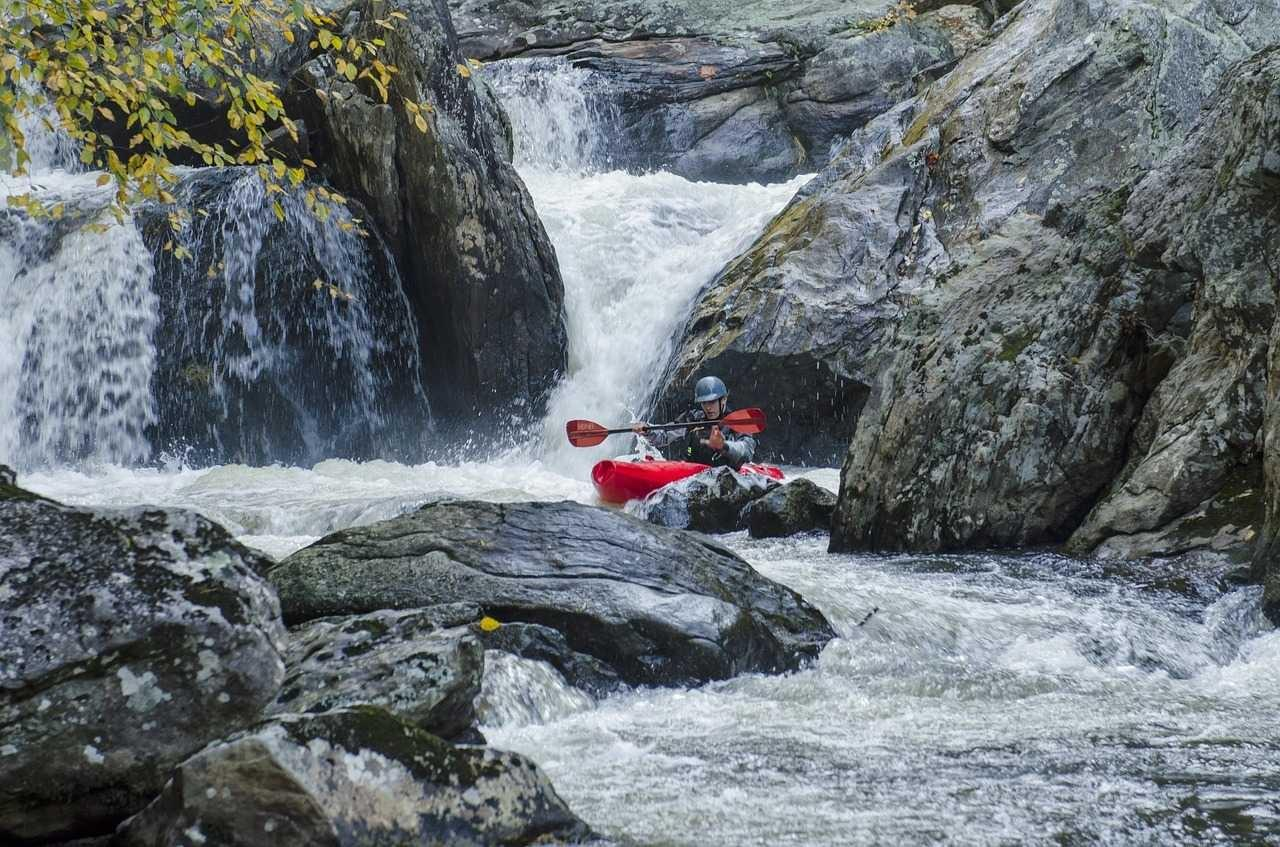kayak: (590, 457, 786, 505)
